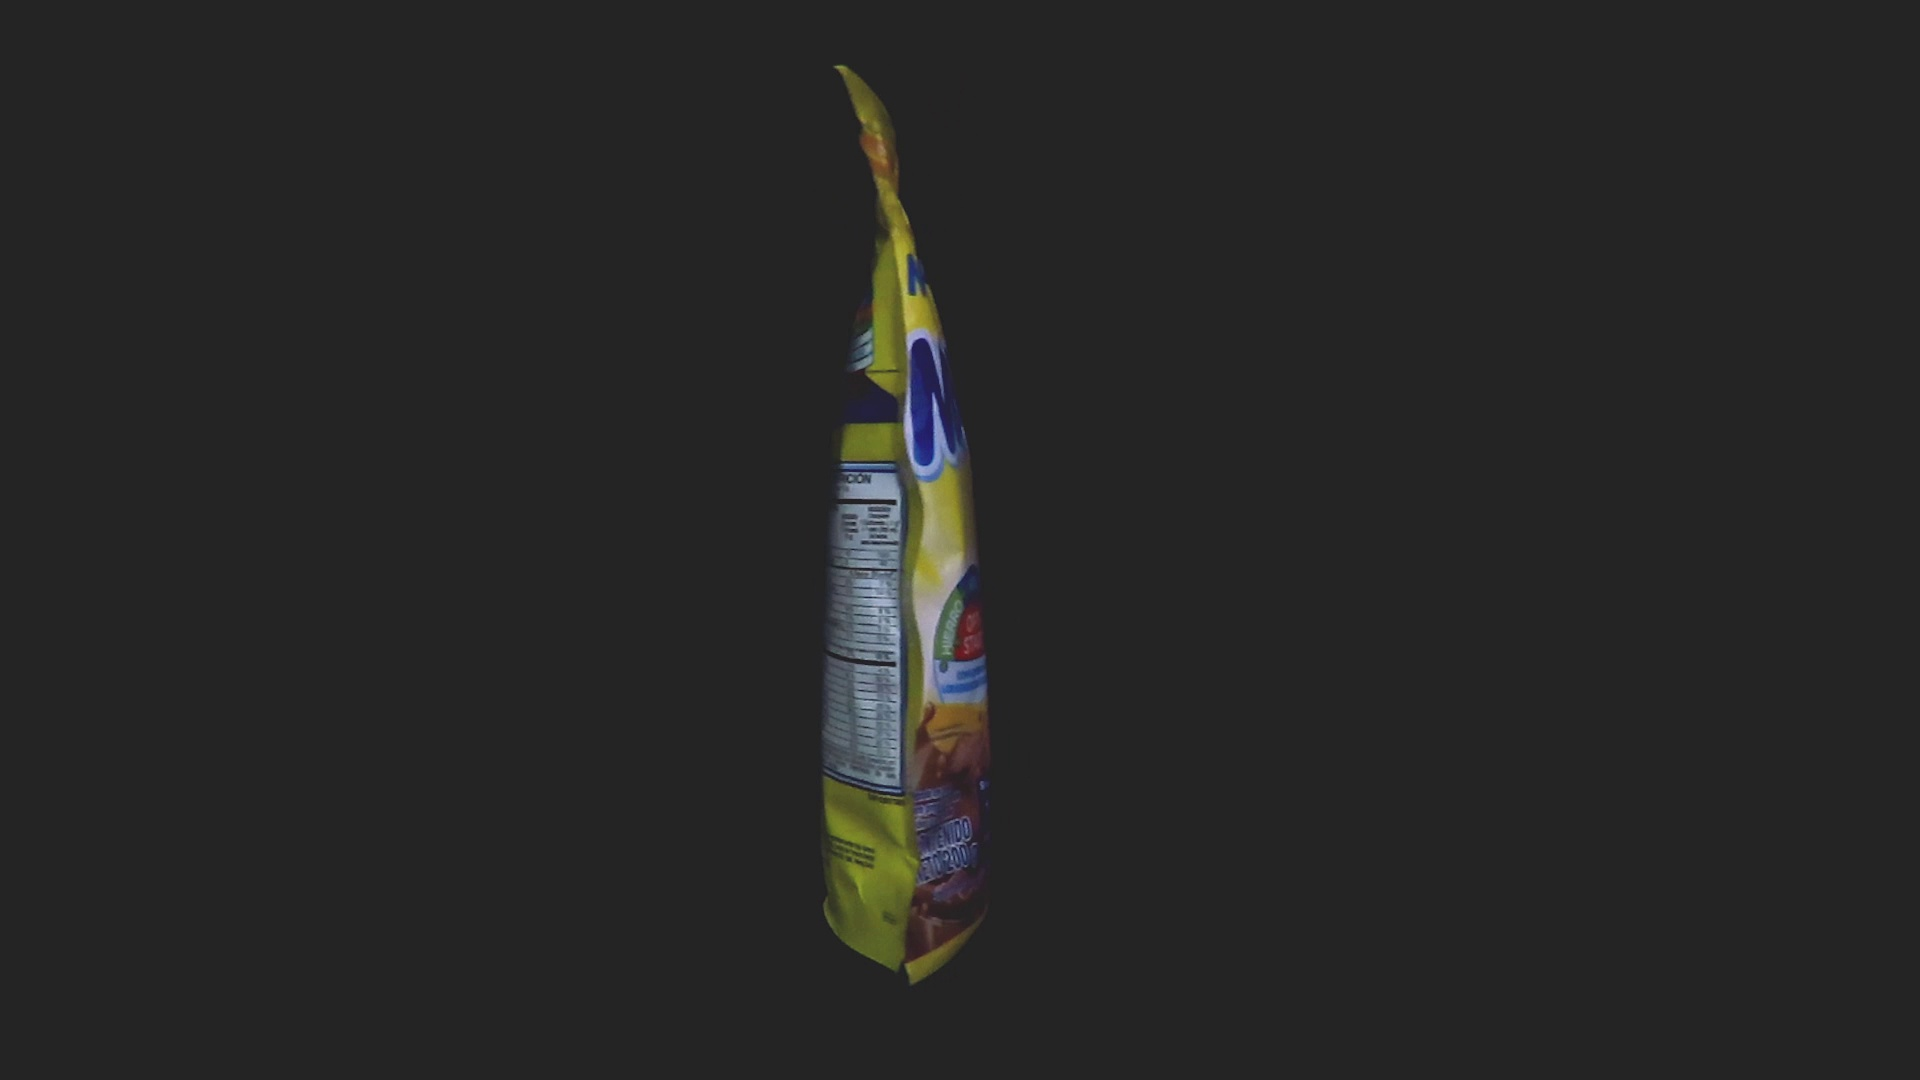COL0170303DYP20000: (815, 61, 996, 992)
